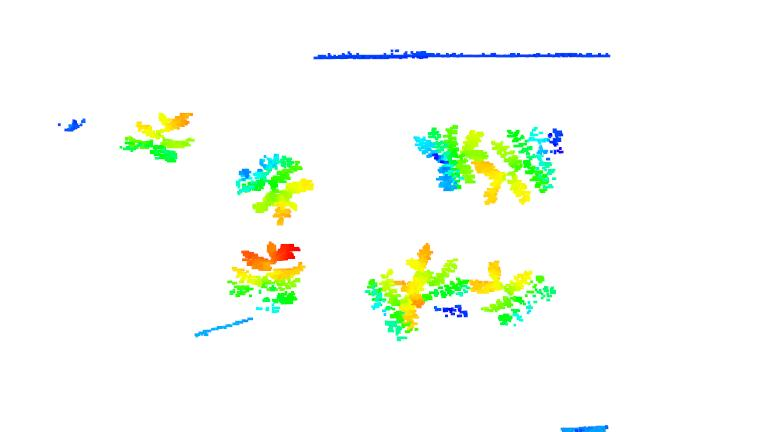chickpea: (368, 246, 470, 340), (476, 124, 574, 208), (464, 258, 557, 329), (226, 239, 304, 317), (234, 150, 315, 225), (411, 120, 486, 195), (120, 106, 195, 163)
